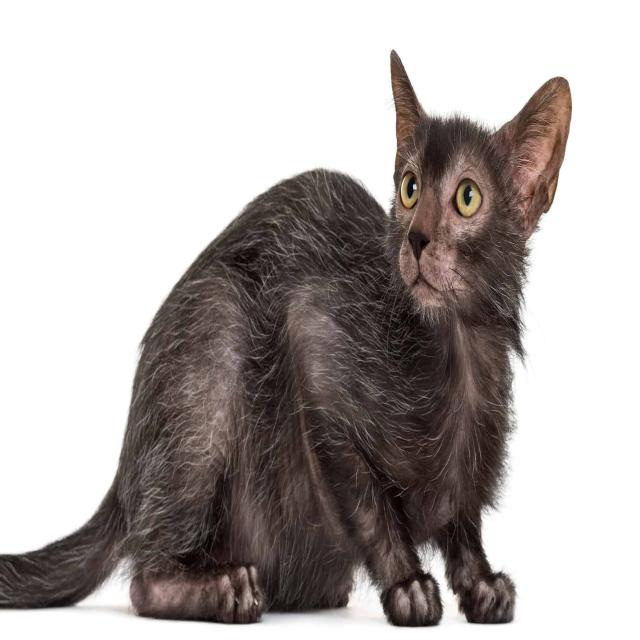Lykoi: (0, 36, 574, 631)
